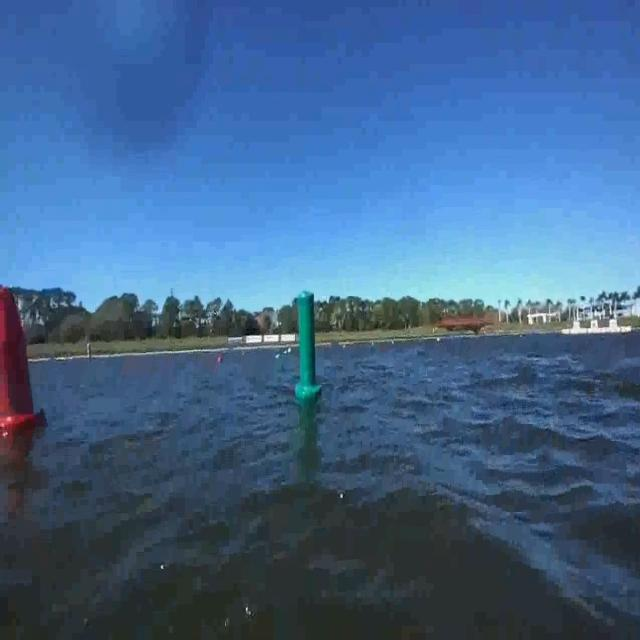green-column-buoy: (294, 289, 321, 400)
red-column-buoy: (0, 283, 44, 432)
